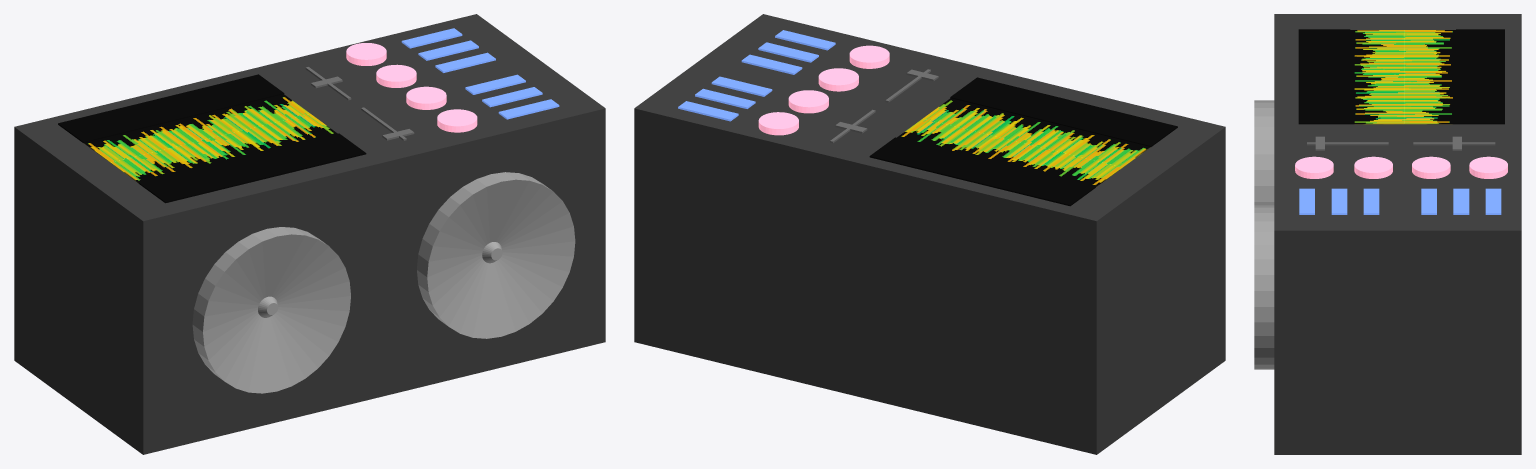
File: Sound system.fbx
The picture shows the model from 3 angles, left to right: view 1: azimuth 30°, elevation 25°; view 2: azimuth 150°, elevation 25°; view 3: azimuth 270°, elevation 25°; orthographic projection. The views are drawn at different scales.
Visible parts, largest first — view 1: Base, Speakers, ScreenEdges, Screen, Buttons, Dials, Switches; view 2: Base, ScreenEdges, Screen, Buttons, Dials, Switches; view 3: Base, Screen, ScreenEdges, Speakers, Dials, Buttons, Switches.
Boxes of the visible parts, x1,y1,x2,y2 form: Base: [14, 14, 605, 454]; Speakers: [192, 172, 575, 393]; ScreenEdges: [58, 74, 366, 203]; Screen: [84, 94, 337, 182]; Buttons: [401, 28, 559, 119]; Dials: [346, 43, 477, 132]; Switches: [305, 67, 414, 140]; Base: [634, 14, 1225, 454]; ScreenEdges: [869, 77, 1177, 206]; Screen: [897, 98, 1150, 186]; Buttons: [678, 30, 835, 121]; Dials: [758, 45, 889, 135]; Switches: [830, 69, 938, 143]; Base: [1274, 14, 1521, 454]; Screen: [1350, 30, 1455, 124]; ScreenEdges: [1298, 29, 1504, 124]; Speakers: [1254, 100, 1274, 369]; Dials: [1295, 156, 1507, 178]; Buttons: [1299, 188, 1501, 214]; Switches: [1307, 136, 1495, 150].
Size of the model in its own units: 414 by 205 by 216.
